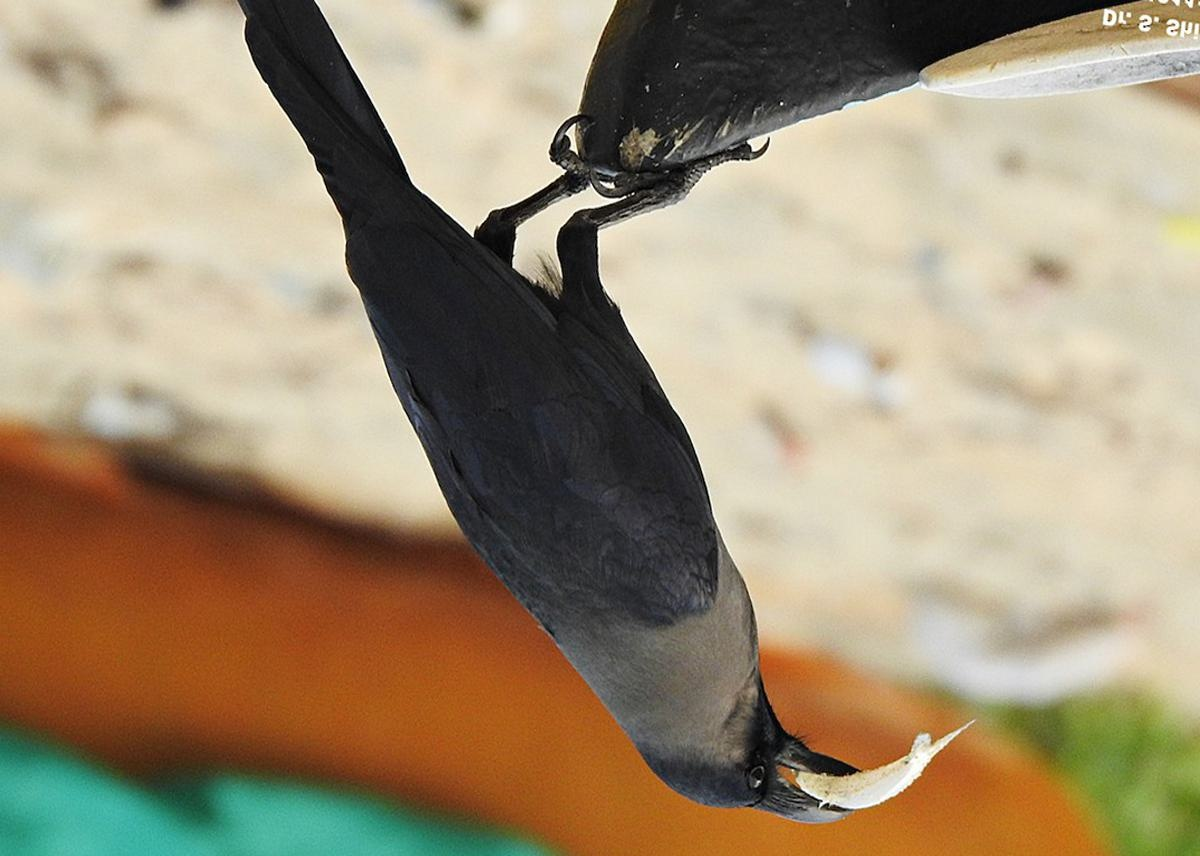crow: (220, 17, 884, 831)
